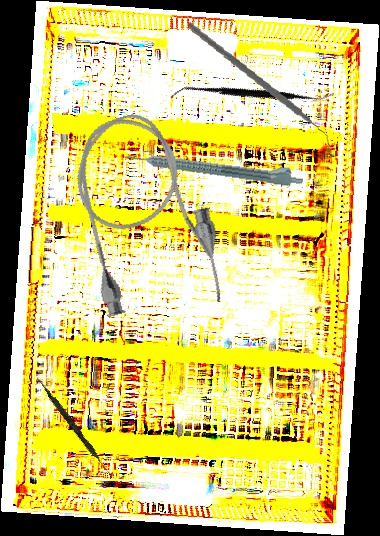Cannula: (57, 100, 235, 332)
Chopper: (175, 22, 342, 153)
Handpiece: (124, 142, 305, 189)
Spatula Surgical: (171, 25, 335, 164), (33, 376, 116, 479)
